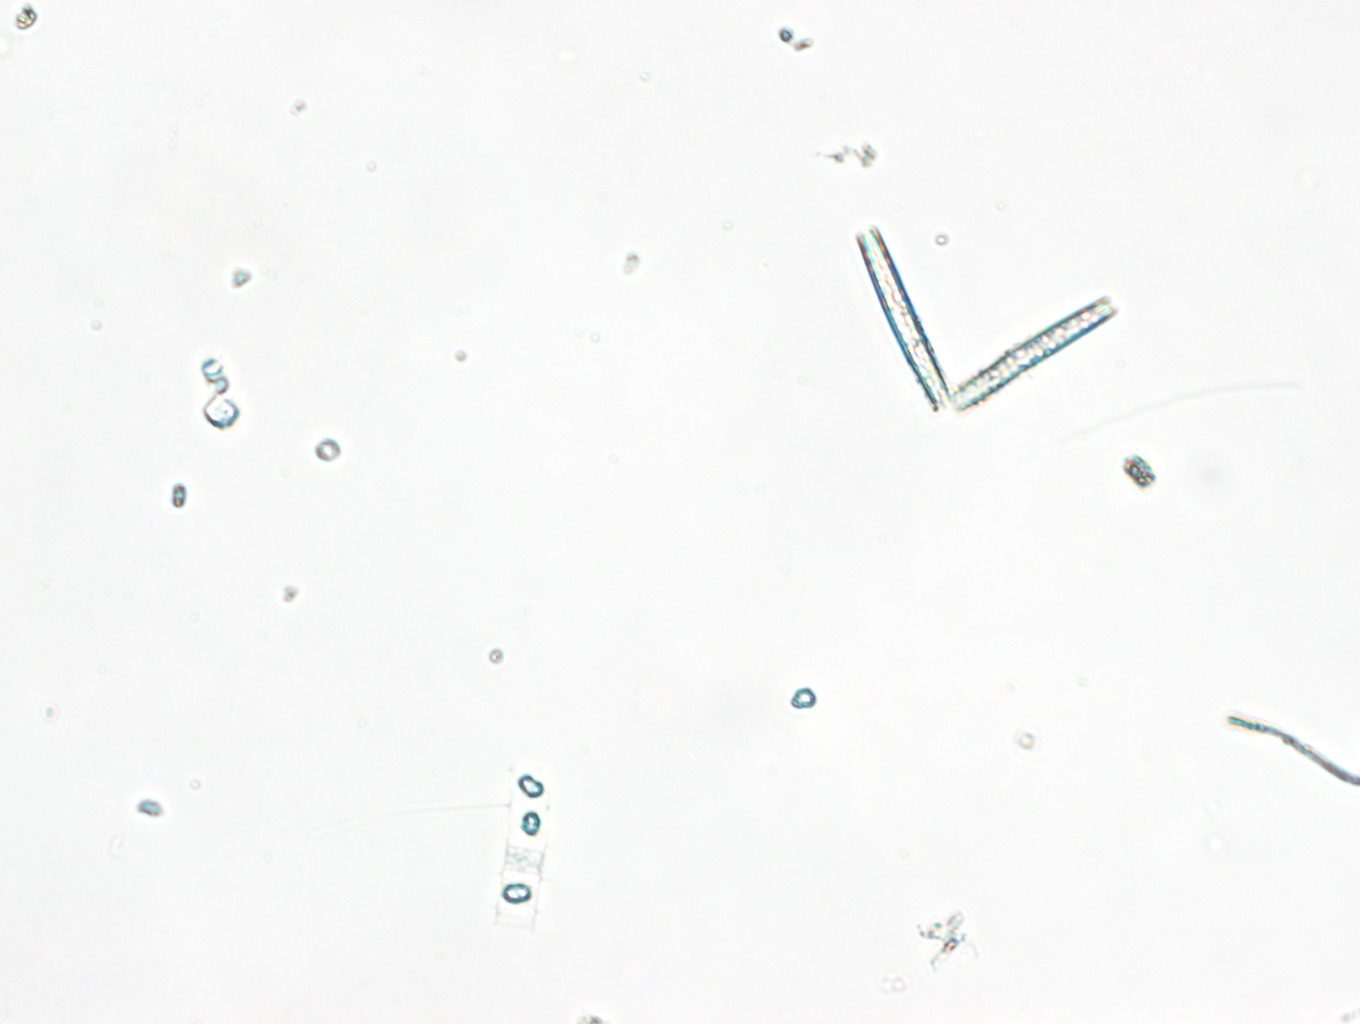thalassionema nitzschioides: (854, 221, 1118, 411)
